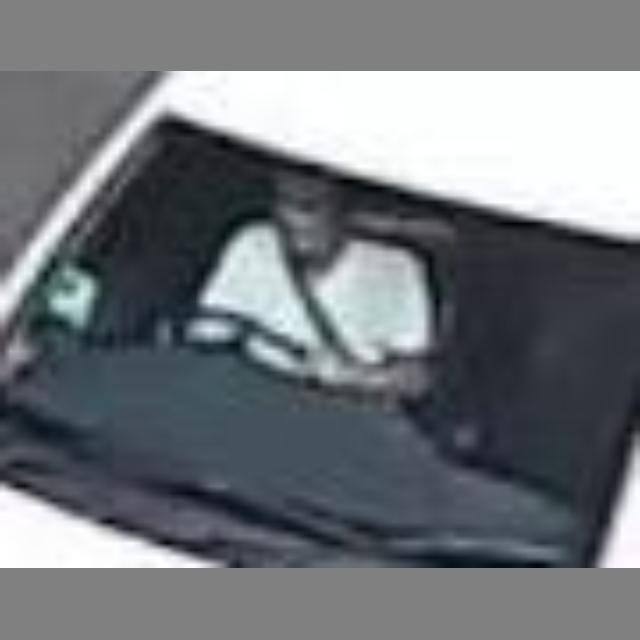pakai: (178, 171, 448, 469)
